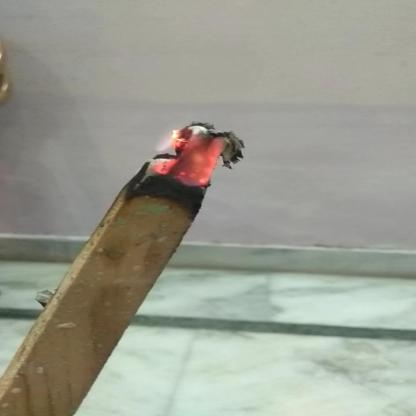fire: (154, 122, 226, 188)
